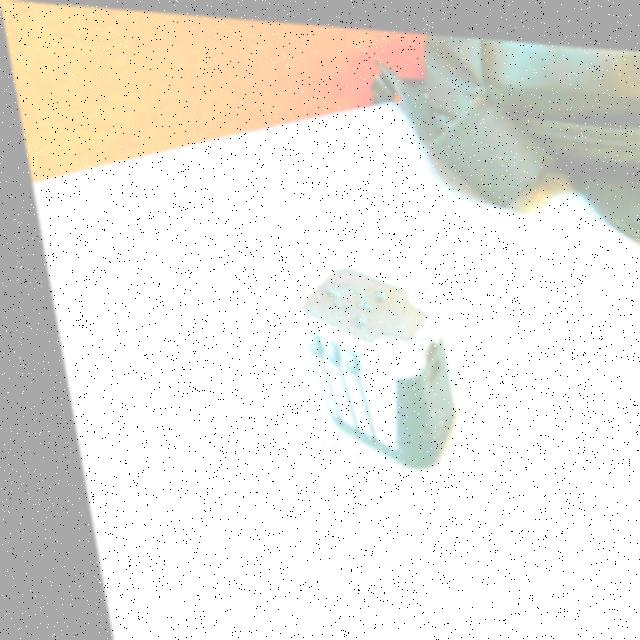adapter: (280, 256, 450, 465)
